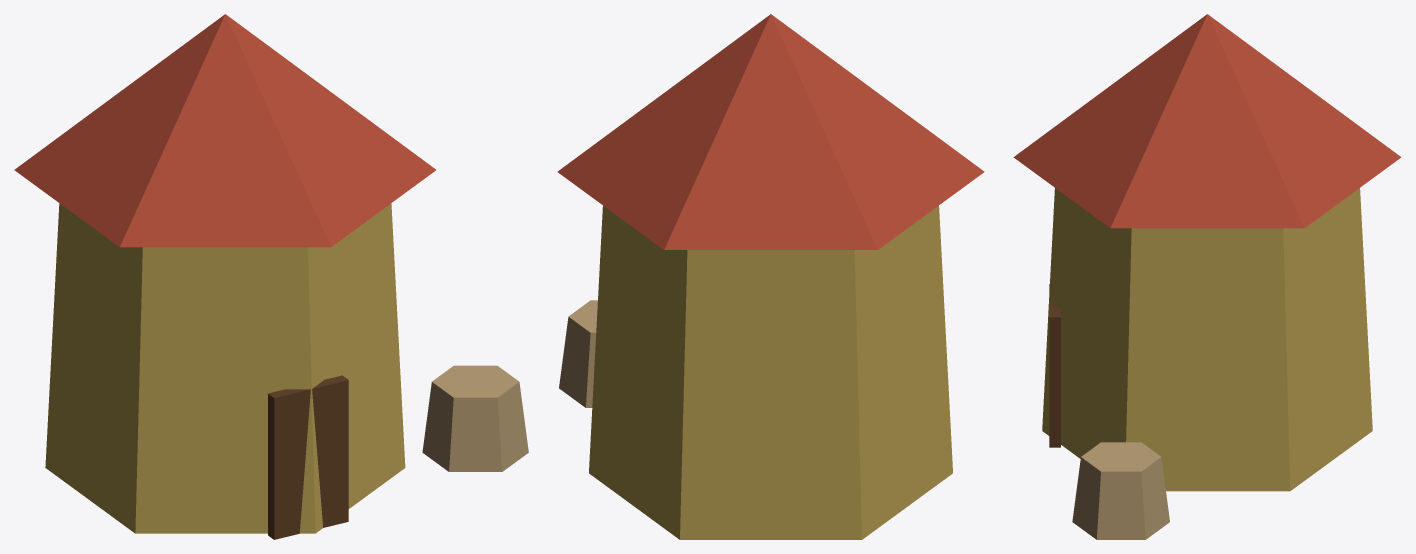
Rendered from granary.glb.
3 views of the same model, side by side, from view 1: azimuth 30°, elevation 25°; view 2: azimuth 150°, elevation 25°; view 3: azimuth 270°, elevation 25° (orthographic). The views are drawn at different scales.
Parts seen in each view (by area): view 1: granary; view 2: granary; view 3: granary.
Part boxes in pixels (x1,y1,x2,y2): granary: [14, 14, 528, 539]; granary: [557, 14, 984, 539]; granary: [1013, 14, 1401, 539].
Bounding box in the file's own units: 0.2964 × 0.32 × 0.27.
